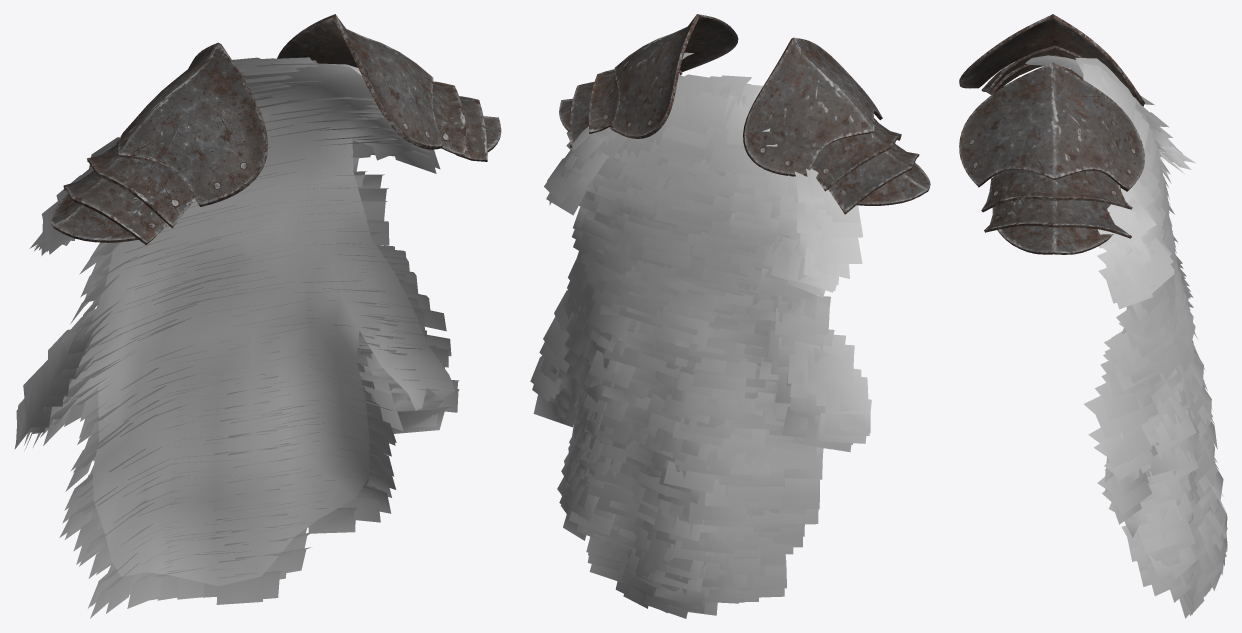
The model's file is sk_gb_uruk_cape_pauldron_elite_d.fbx.
3 renders of one model, left to right at view 1: azimuth 30°, elevation 25°; view 2: azimuth 150°, elevation 25°; view 3: azimuth 270°, elevation 25°, orthographic. The views are drawn at different scales.
Visible parts, largest first — view 1: sk_gb_uruk_cape_pauldron_elite_d.base, sk_gb_uruk_cape_pauldron_elite_d.fur, sk_gb_uruk_cape_pauldron_elite_d.pauld; view 2: sk_gb_uruk_cape_pauldron_elite_d.fur, sk_gb_uruk_cape_pauldron_elite_d.pauld; view 3: sk_gb_uruk_cape_pauldron_elite_d.fur, sk_gb_uruk_cape_pauldron_elite_d.pauld, sk_gb_uruk_cape_pauldron_elite_d.base.
Part boxes in pixels (x1,y1,x2,y2): sk_gb_uruk_cape_pauldron_elite_d.base: (44,63,455,586); sk_gb_uruk_cape_pauldron_elite_d.fur: (14,57,459,618); sk_gb_uruk_cape_pauldron_elite_d.pauld: (50,14,501,244); sk_gb_uruk_cape_pauldron_elite_d.fur: (530,74,871,618); sk_gb_uruk_cape_pauldron_elite_d.pauld: (559,14,930,214); sk_gb_uruk_cape_pauldron_elite_d.fur: (1075,57,1227,618); sk_gb_uruk_cape_pauldron_elite_d.pauld: (959,14,1144,254); sk_gb_uruk_cape_pauldron_elite_d.base: (1025,55,1128,492).
Size of the model in its own units: 0.8777 by 0.541 by 1.22.
